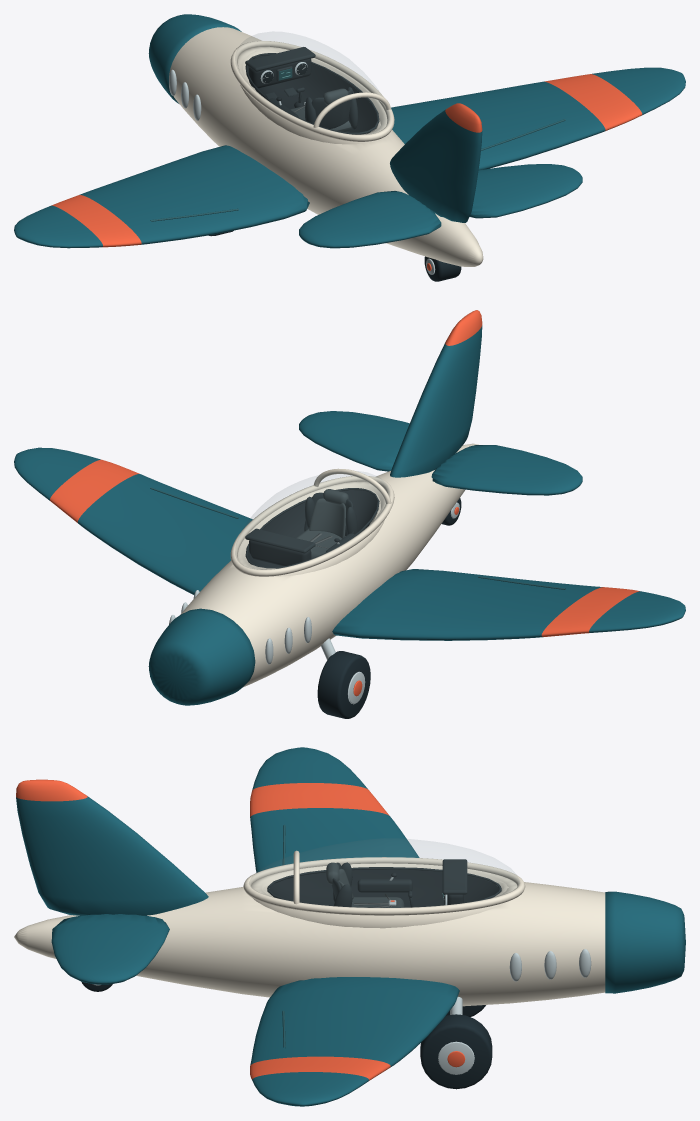
Rendered from classic-body.glb.
The picture shows the model from 3 angles, top to bottom: view 1: azimuth 30°, elevation 25°; view 2: azimuth 150°, elevation 25°; view 3: azimuth 270°, elevation 25°; orthographic projection. The views are drawn at different scales.
Visible parts, largest first — view 1: toy-classic; view 2: toy-classic; view 3: toy-classic.
Boxes of the visible parts, x1=… form: toy-classic: x1=14, y1=14, x2=685, y2=281; toy-classic: x1=14, y1=310, x2=685, y2=718; toy-classic: x1=14, y1=747, x2=685, y2=1106.
Size of the model in its own units: 6.1 by 2.15 by 4.85.
